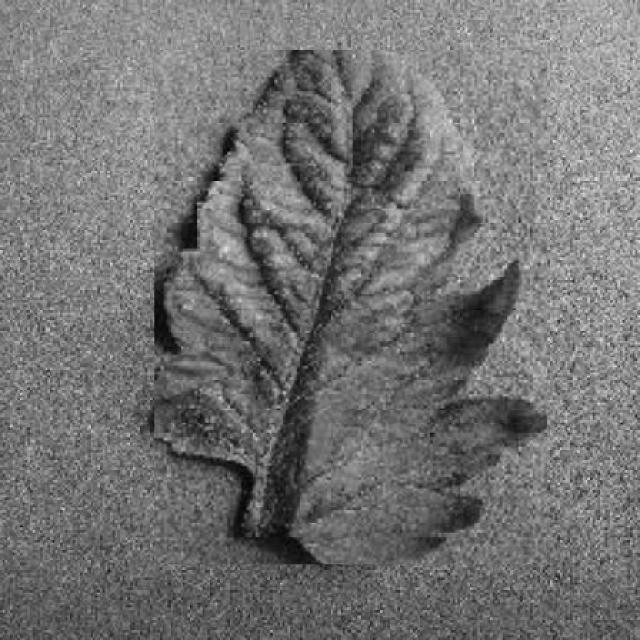Mosaic Virus: (154, 50, 547, 564)
